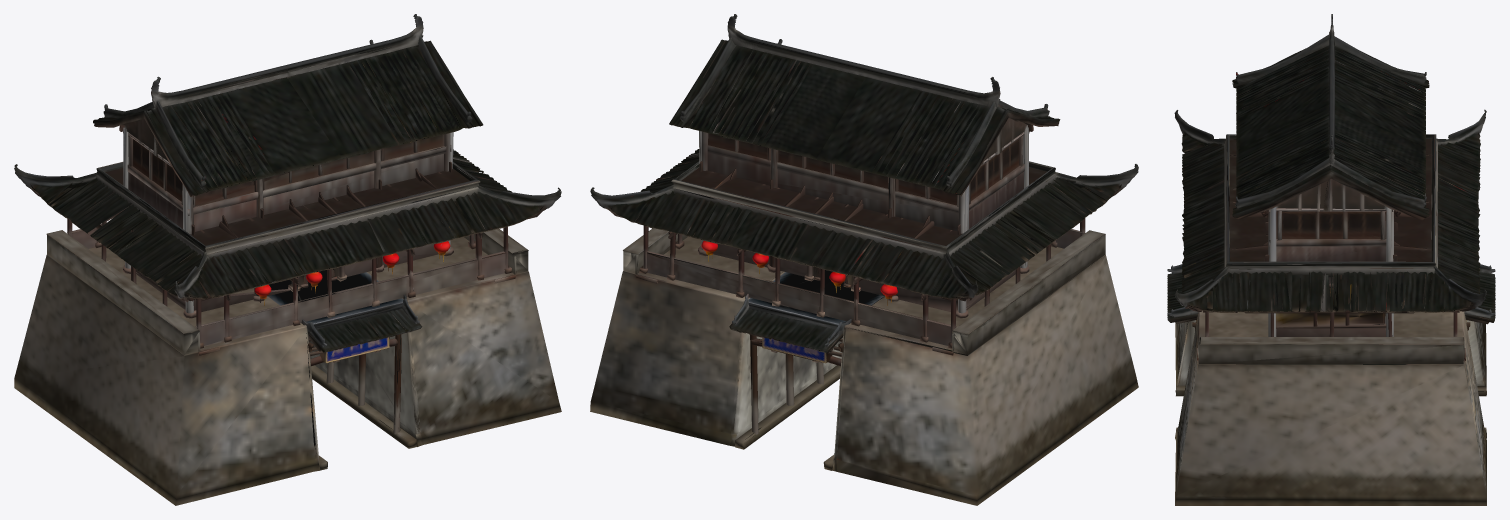
File: nan_qiaolou.glb
The picture shows the model from 3 angles, left to right: view 1: azimuth 30°, elevation 25°; view 2: azimuth 150°, elevation 25°; view 3: azimuth 270°, elevation 25°; orthographic projection. The views are drawn at different scales.
Visible parts, largest first — view 1: geometry_0; view 2: geometry_0; view 3: geometry_0.
Boxes of the visible parts, box(x1,y1,x2,y2) form: geometry_0: box(14, 14, 561, 505); geometry_0: box(590, 14, 1138, 505); geometry_0: box(1167, 14, 1495, 505).
Size of the model in its own units: 0.9478 by 0.8291 by 0.7231.
Materials: 1 (1 with a texture image).
